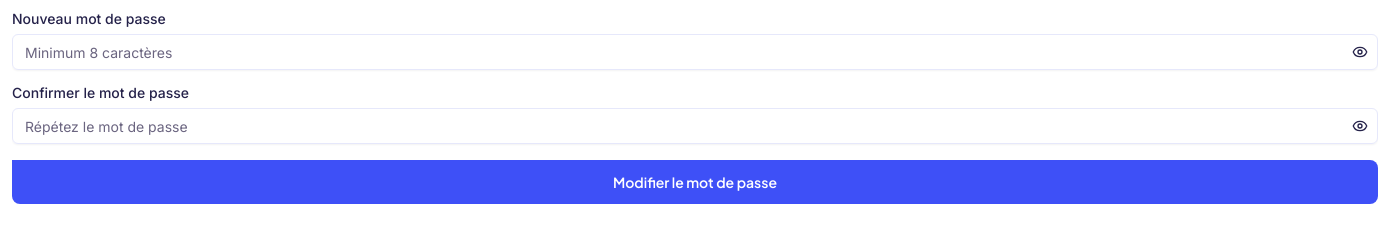
ResetPasswordForm › validation › shows error when passwords do not match
Type "password123" into the password field with placeholder "Minimum 8 caractères".
click(695, 52); type("password123")  # box top-left (12, 34), bottom-right (1378, 70)
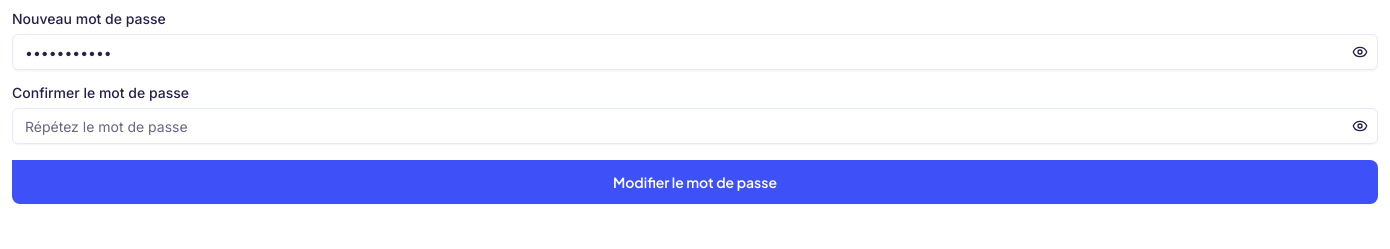
Type "different123" into the password field with placeholder "Répétez le mot de passe".
click(695, 126); type("different123")  # box top-left (12, 108), bottom-right (1378, 144)
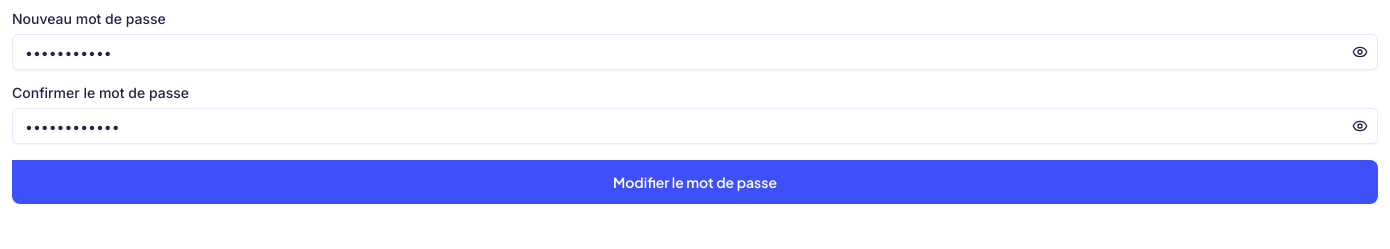
Click the button "Modifier le mot de passe".
click(695, 182)  # box top-left (12, 160), bottom-right (1378, 204)
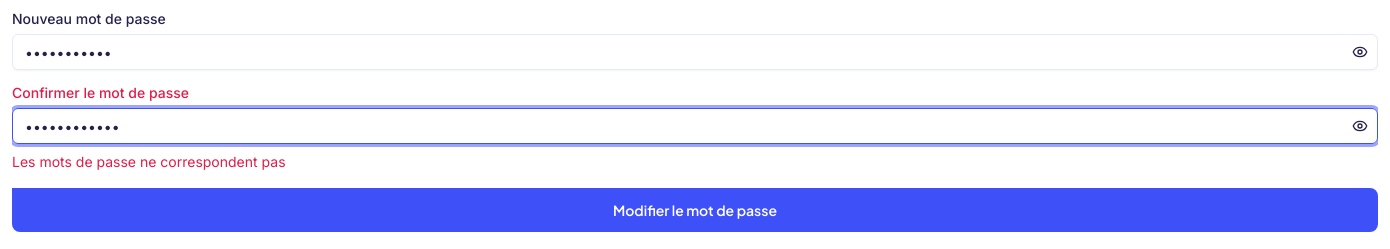
Now the text "Les mots de passe ne correspondent pas" is shown, box top-left (12, 153), bottom-right (286, 170)
